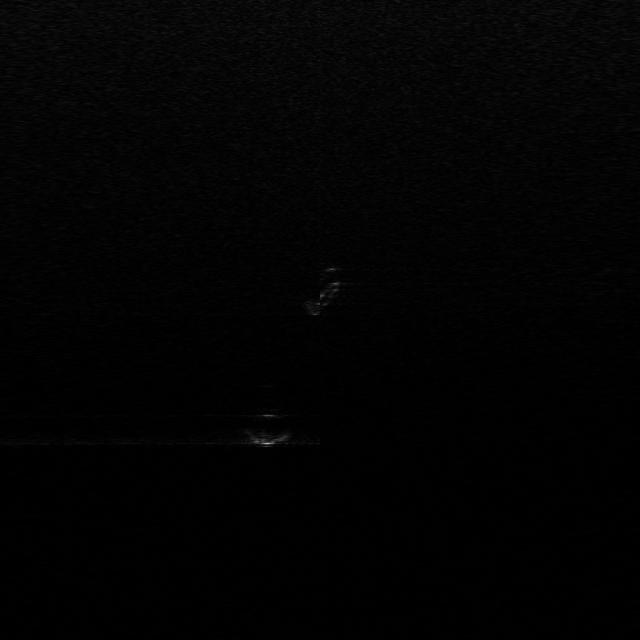ball: (238, 408, 296, 447)
tyre: (297, 265, 339, 316)
